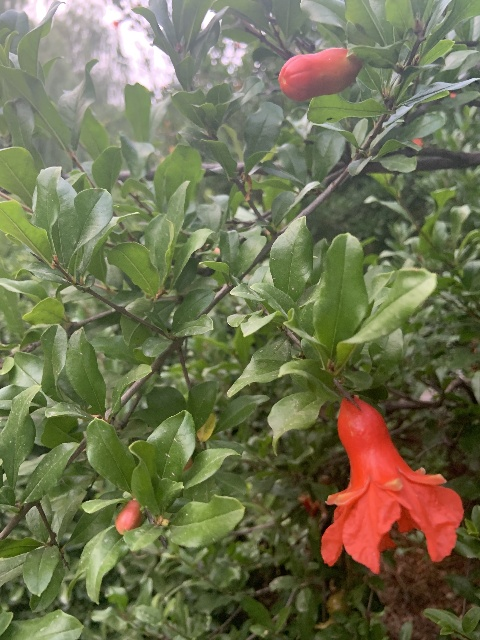bud: (278, 47, 362, 102), (115, 499, 142, 534)
flower: (321, 392, 463, 573)
mid-growth: (315, 590, 352, 630)
